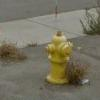Hydrant: (36, 18, 78, 86)
